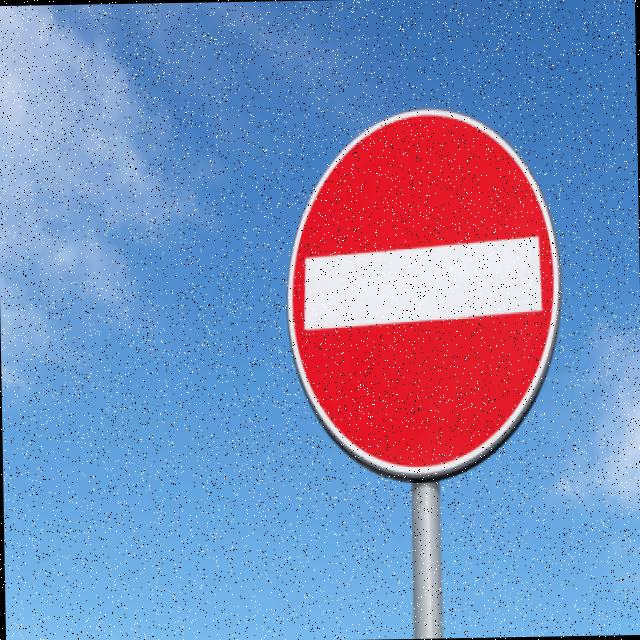do_not_enter: (276, 98, 569, 492)
